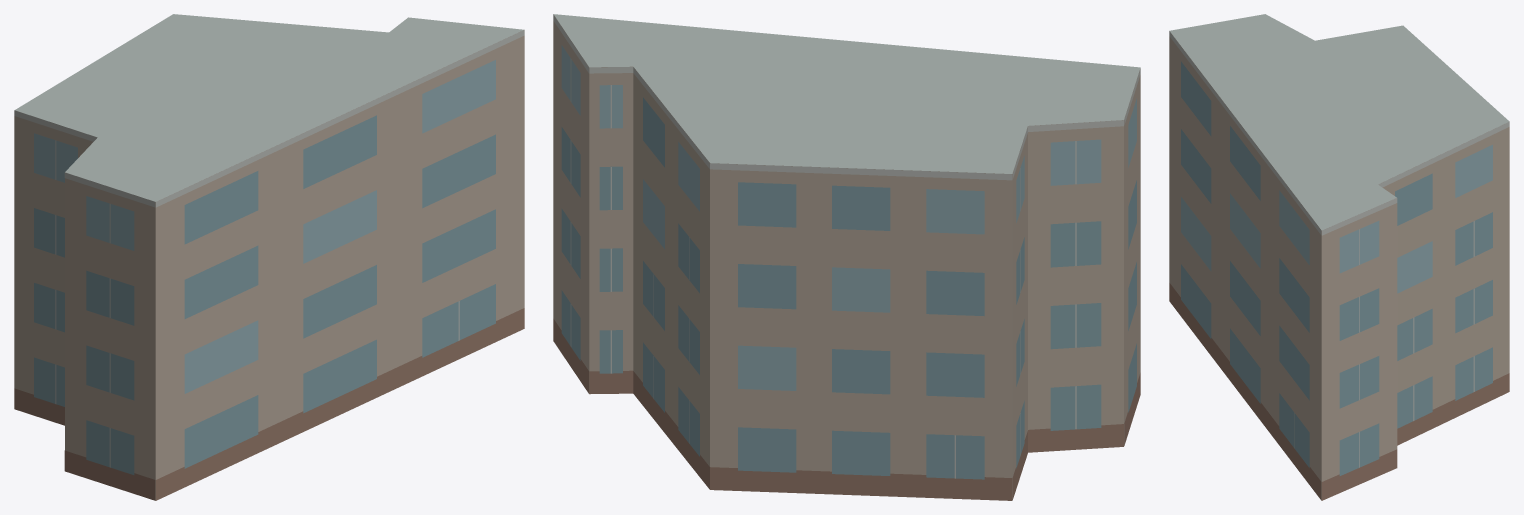
Rendered from survey-upis-32576407.glb.
The picture shows the model from 3 angles, left to right: view 1: azimuth 30°, elevation 25°; view 2: azimuth 150°, elevation 25°; view 3: azimuth 270°, elevation 25°; orthographic projection. The views are drawn at different scales.
Visible parts, largest first — view 1: survey-upis-32576407.tmp; view 2: survey-upis-32576407.tmp; view 3: survey-upis-32576407.tmp.
Boxes of the visible parts, x1=… form: survey-upis-32576407.tmp: x1=14, y1=14, x2=524, y2=500; survey-upis-32576407.tmp: x1=553, y1=14, x2=1140, y2=500; survey-upis-32576407.tmp: x1=1169, y1=14, x2=1509, y2=500.
Bounding box in the file's own units: 21.83 × 12.7 × 14.5.
